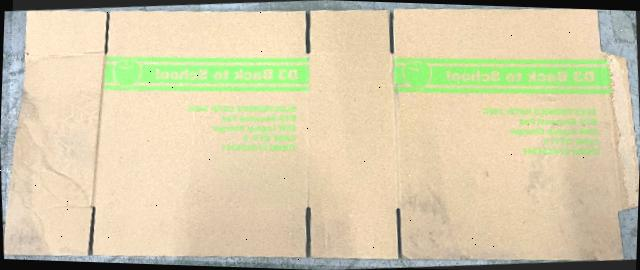box: (4, 9, 639, 260)
